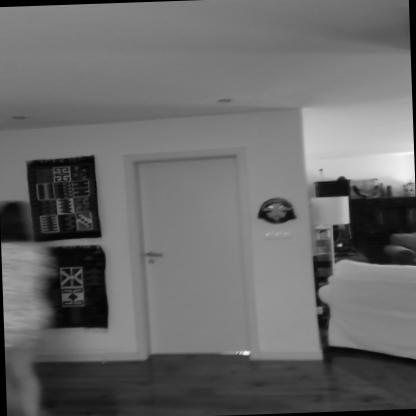closed: (118, 142, 259, 362)
